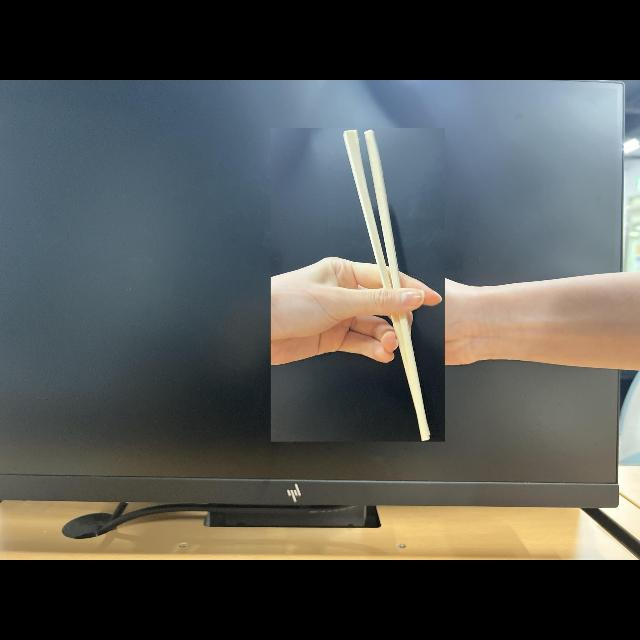stick: (270, 128, 444, 442)
